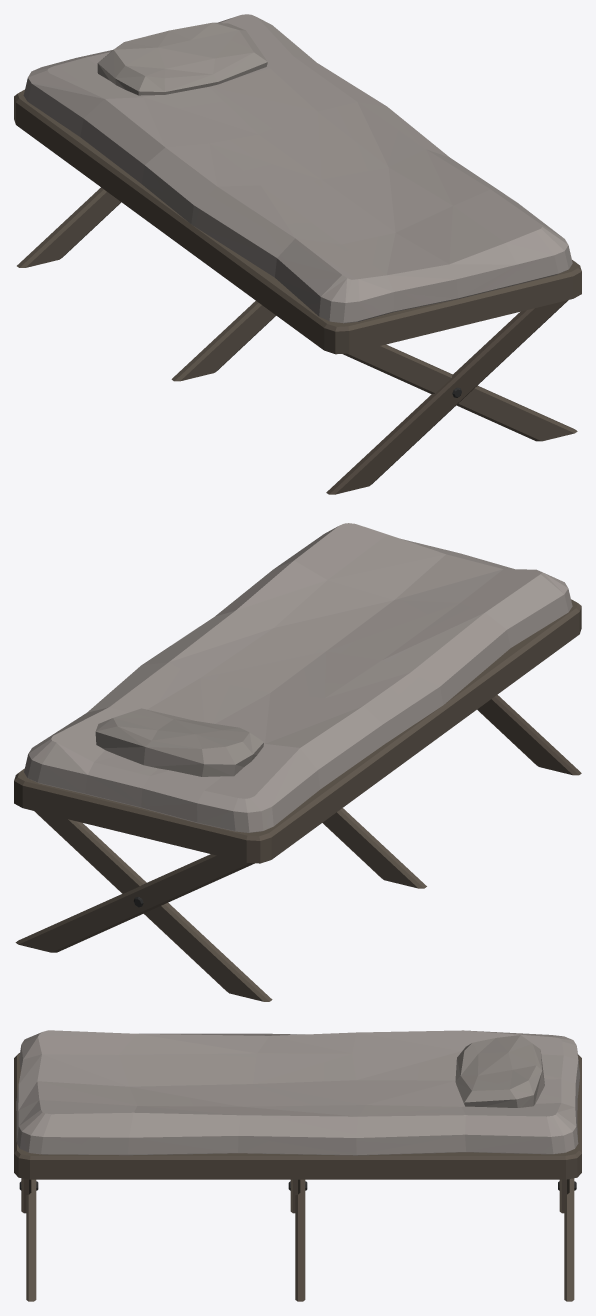
Rendered from Prop_Bed_Frame_02.fbx.
The picture shows the model from 3 angles, top to bottom: view 1: azimuth 30°, elevation 25°; view 2: azimuth 150°, elevation 25°; view 3: azimuth 270°, elevation 25°; orthographic projection. The views are drawn at different scales.
Visible parts, largest first — view 1: Prop_Bed_Matress_02_LOD0, Prop_Bed_Frame_02_LOD0; view 2: Prop_Bed_Matress_02_LOD0, Prop_Bed_Frame_02_LOD0; view 3: Prop_Bed_Matress_02_LOD0, Prop_Bed_Frame_02_LOD0.
Part boxes in pixels (box(x1,y1,x2,y2)): Prop_Bed_Matress_02_LOD0: box(23, 14, 572, 323); Prop_Bed_Frame_02_LOD0: box(14, 89, 581, 494); Prop_Bed_Matress_02_LOD0: box(24, 523, 572, 832); Prop_Bed_Frame_02_LOD0: box(14, 599, 581, 1001); Prop_Bed_Matress_02_LOD0: box(16, 1030, 579, 1155); Prop_Bed_Frame_02_LOD0: box(14, 1053, 581, 1301).
Size of what is drawn, in the model's own units: 83.04 by 67.77 by 184.
